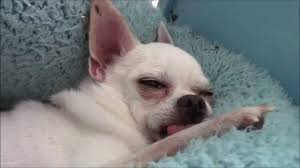chihuahua: (1, 2, 280, 168)
